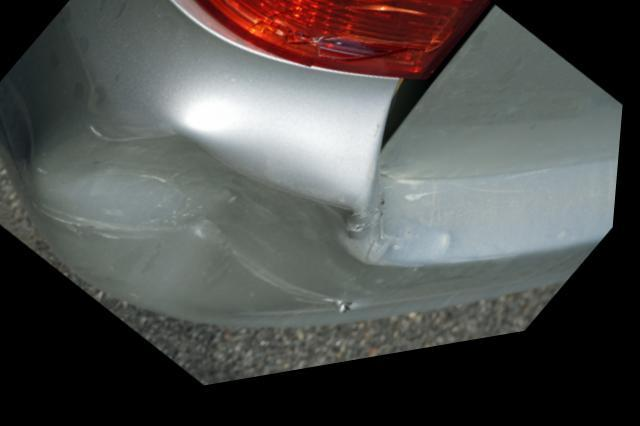dent: (48, 133, 360, 326)
lamp broken: (180, 0, 491, 101)
